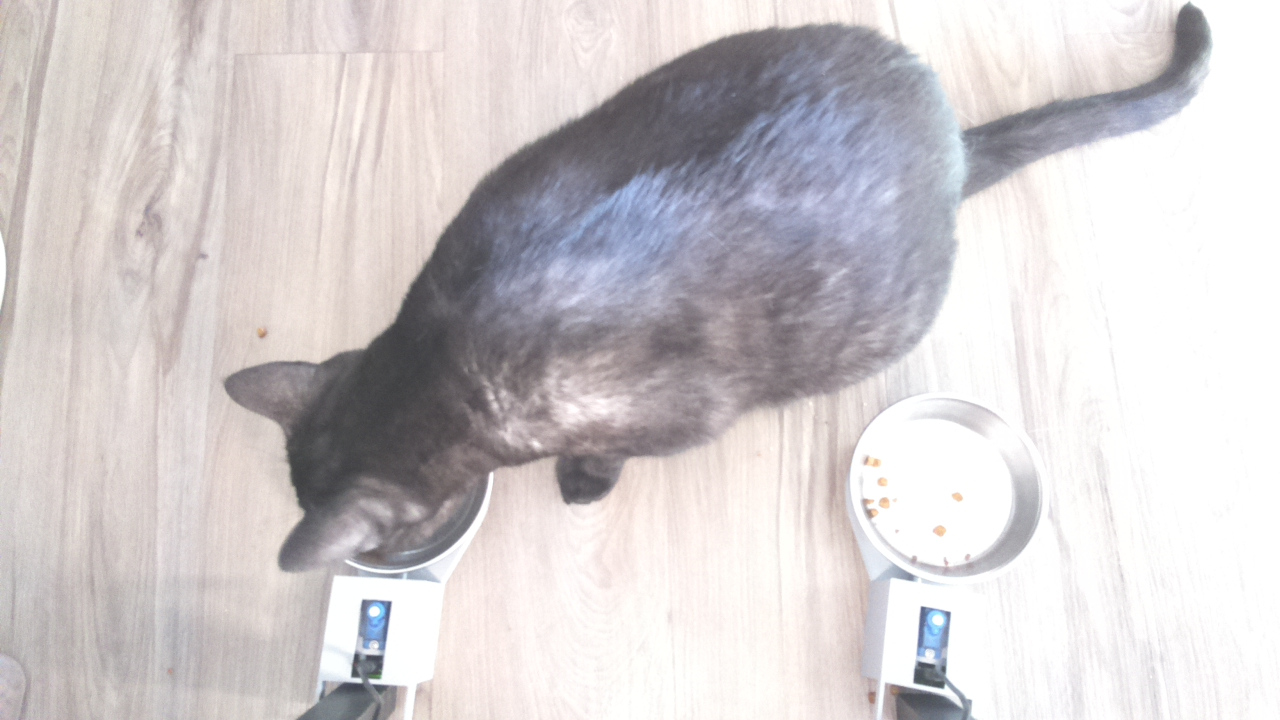open_bowl: (841, 390, 1052, 586)
saki_eating: (216, 326, 505, 594)
